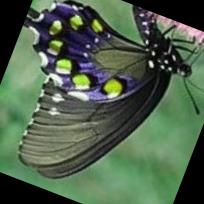butterfly: (18, 0, 191, 179)
